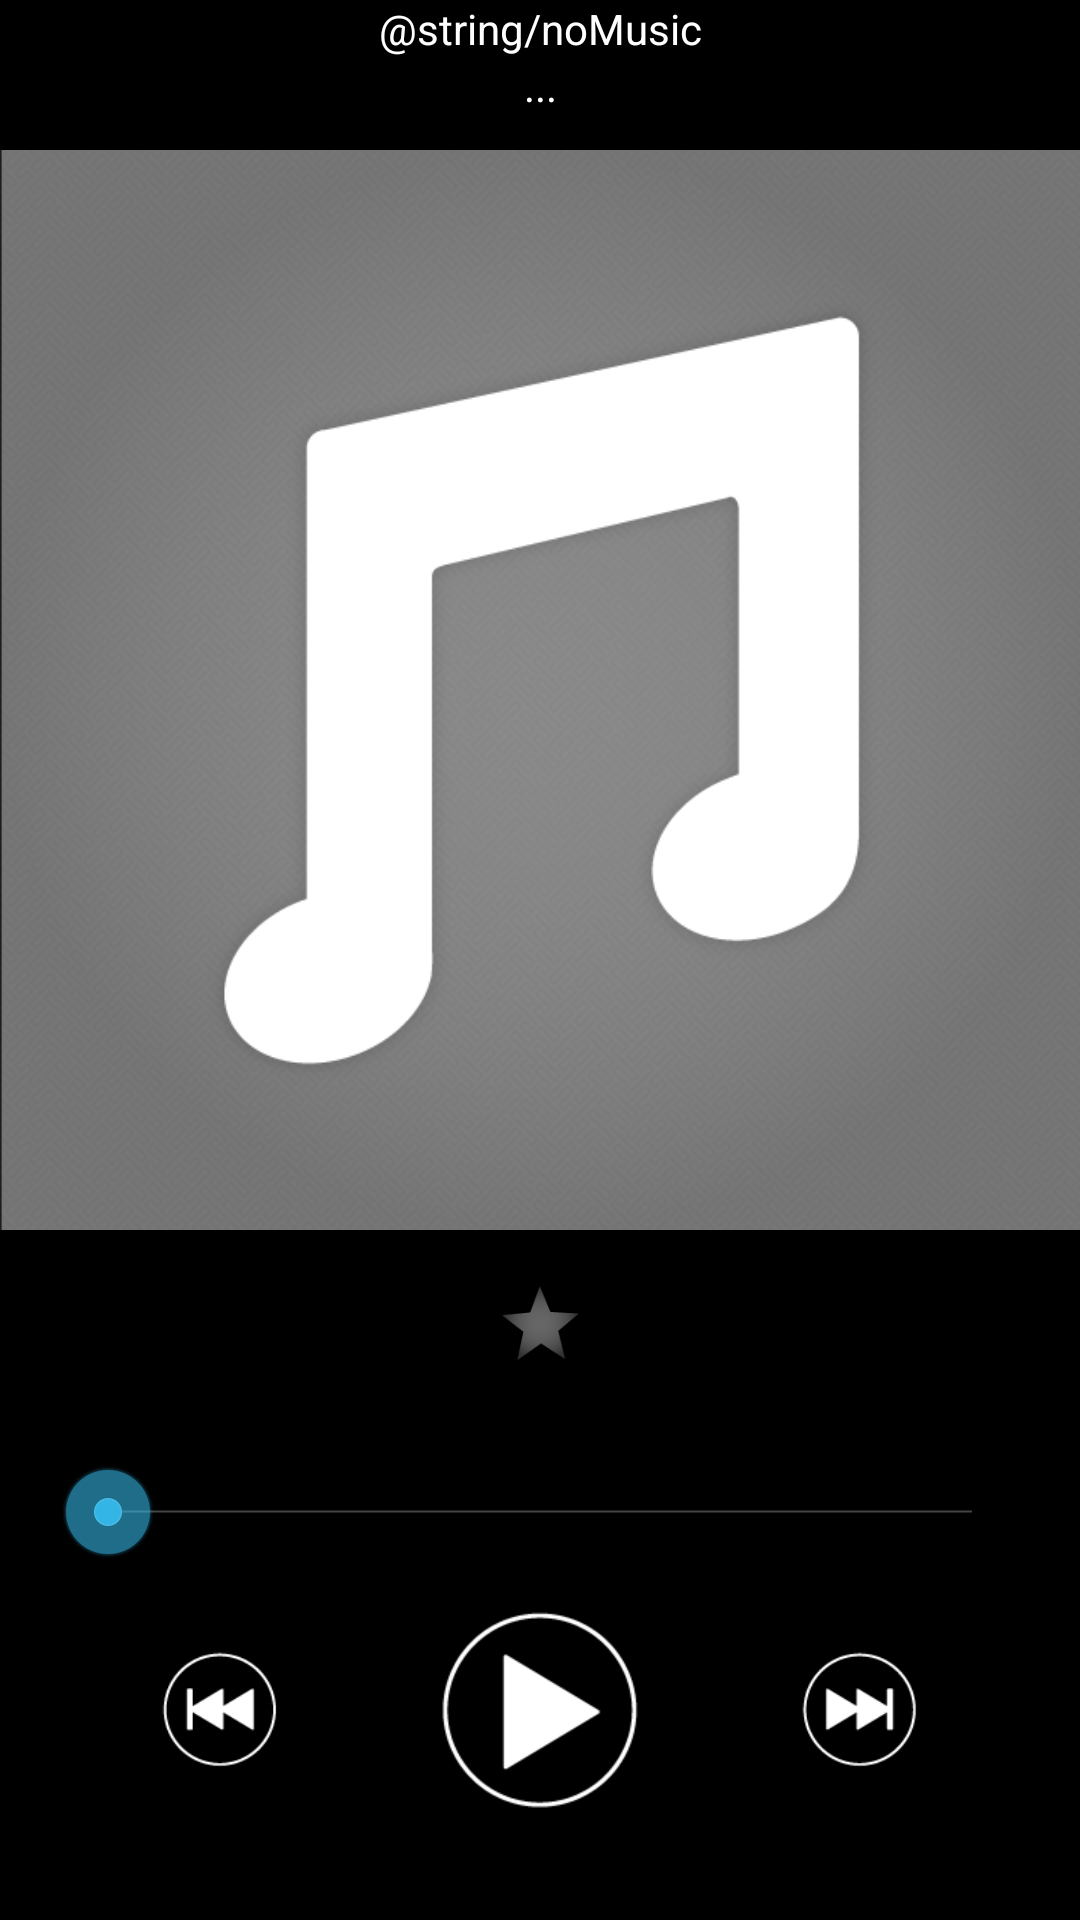

Icon bounding boxes for this 1080px x 1920px phone screenshot, format (x1, y1, x2, y2):
fowardbutton: (802, 1652, 916, 1766)
playbutton: (442, 1612, 638, 1808)
previousbutton: (163, 1652, 276, 1766)
Star this song: (503, 1287, 578, 1359)
